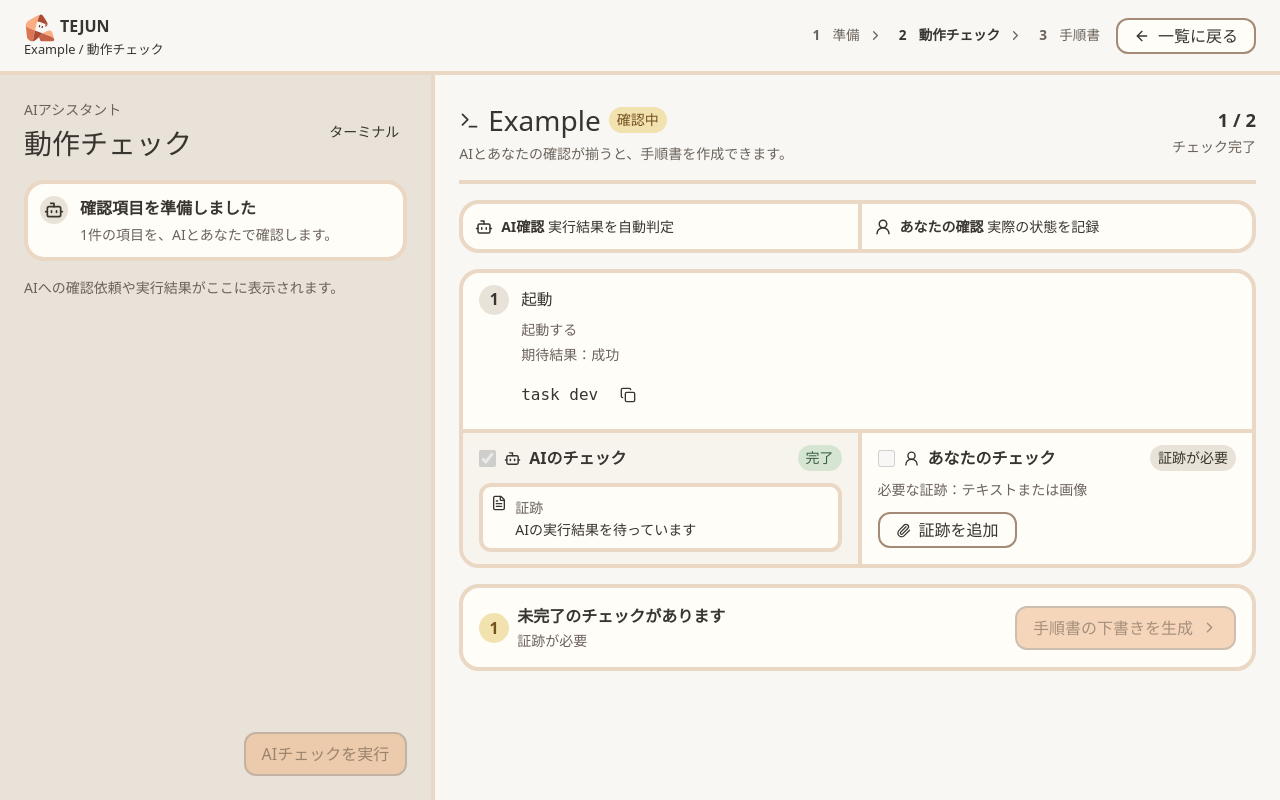
Test: ExecutionPage › 画像を貼り付け・ドロップして添付できる
The width and height of the screenshot is (1280, 800).
Click the button "証跡を追加" at x=947, y=530, box x1=878 y1=512 x2=1017 y2=548
(page scrolled)
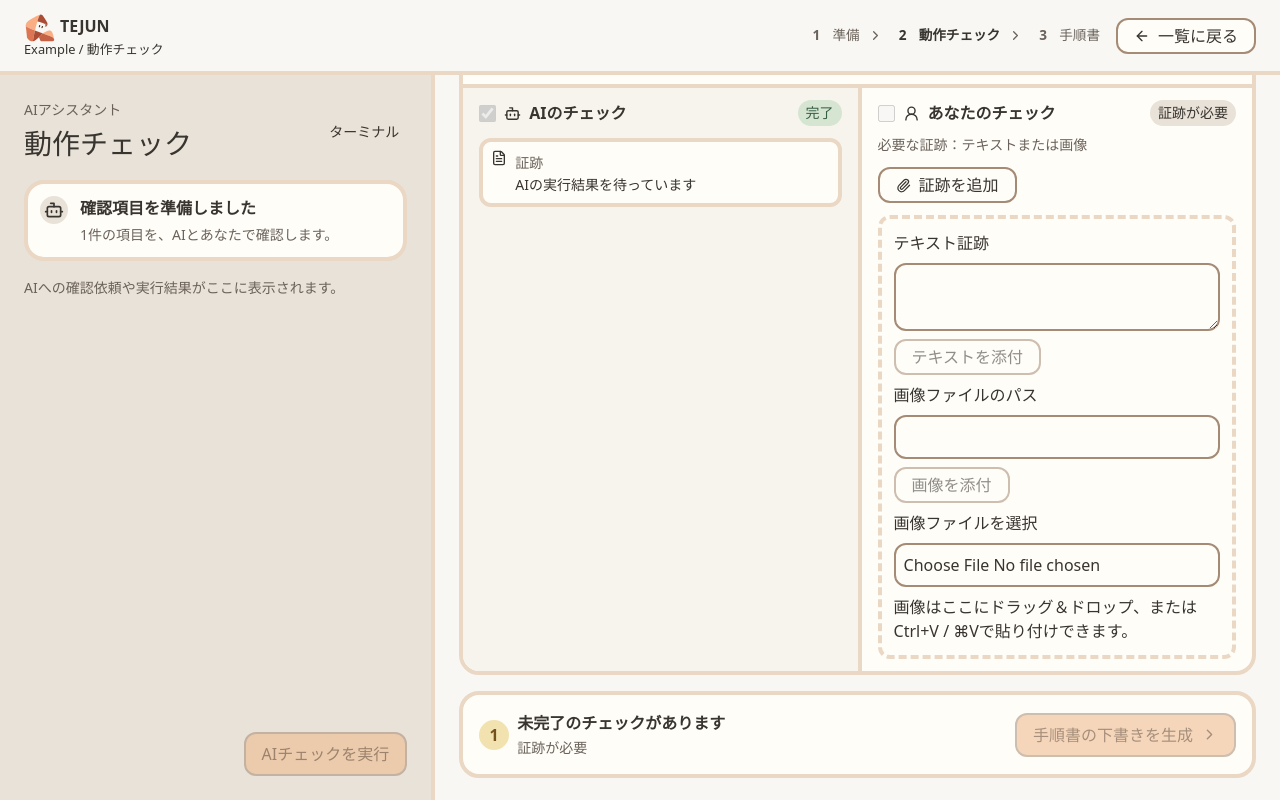
Now the element with class "execution-evidence-editor" is shown, box x1=878 y1=215 x2=1236 y2=659
